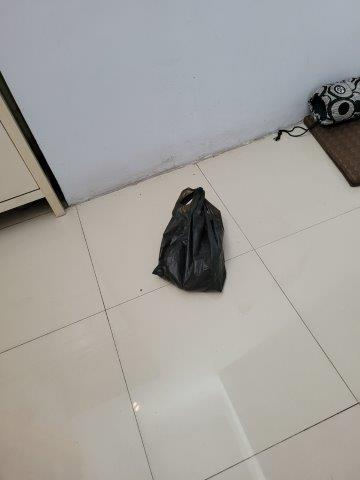plastik: (154, 191, 227, 295)
